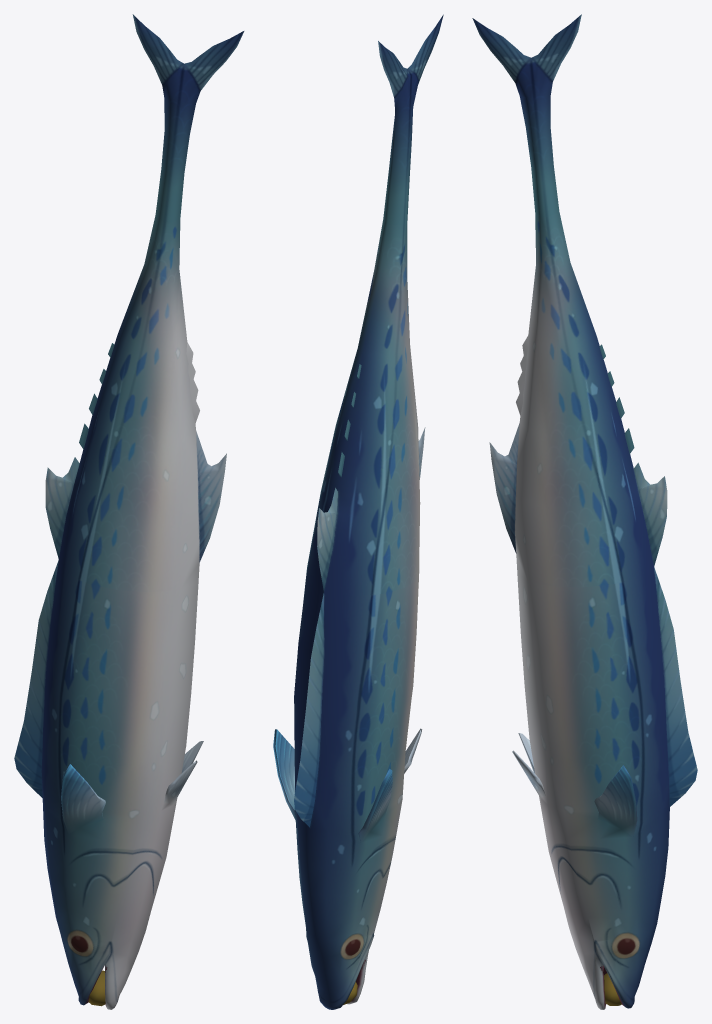
The model's file is luxsealord.fbx.
3 views of the same model, side by side, from view 1: azimuth 90°, elevation 25°; view 2: azimuth 150°, elevation 25°; view 3: azimuth 270°, elevation 25° (orthographic). The views are drawn at different scales.
Visible parts, largest first — view 1: Luxurious Sea-Lord 2_mesh; view 2: Luxurious Sea-Lord 2_mesh; view 3: Luxurious Sea-Lord 2_mesh.
Boxes of the visible parts, x1=… form: Luxurious Sea-Lord 2_mesh: x1=14, y1=14, x2=244, y2=1009; Luxurious Sea-Lord 2_mesh: x1=273, y1=14, x2=443, y2=1009; Luxurious Sea-Lord 2_mesh: x1=472, y1=14, x2=697, y2=1009.
Bounding box in the file's own units: 0.1296 × 0.9343 × 0.194.
